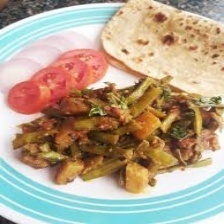sabzi: (13, 78, 222, 187)
